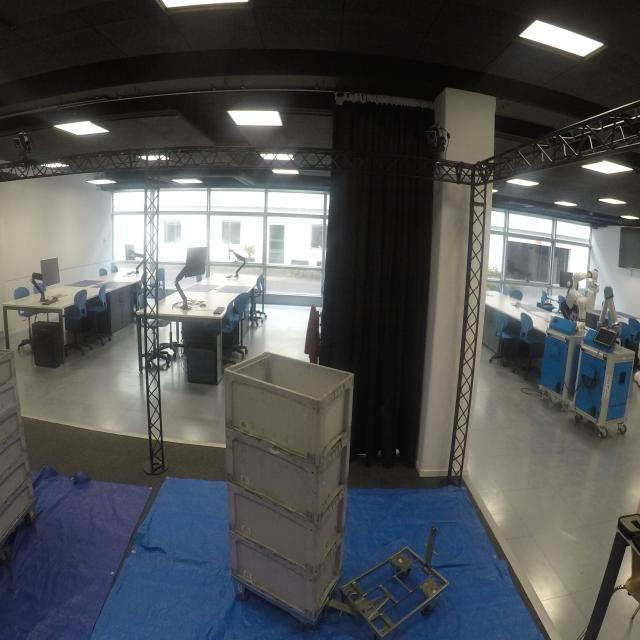Box4G: (222, 347, 358, 463), (226, 426, 353, 526), (226, 478, 352, 572), (228, 528, 348, 625)
